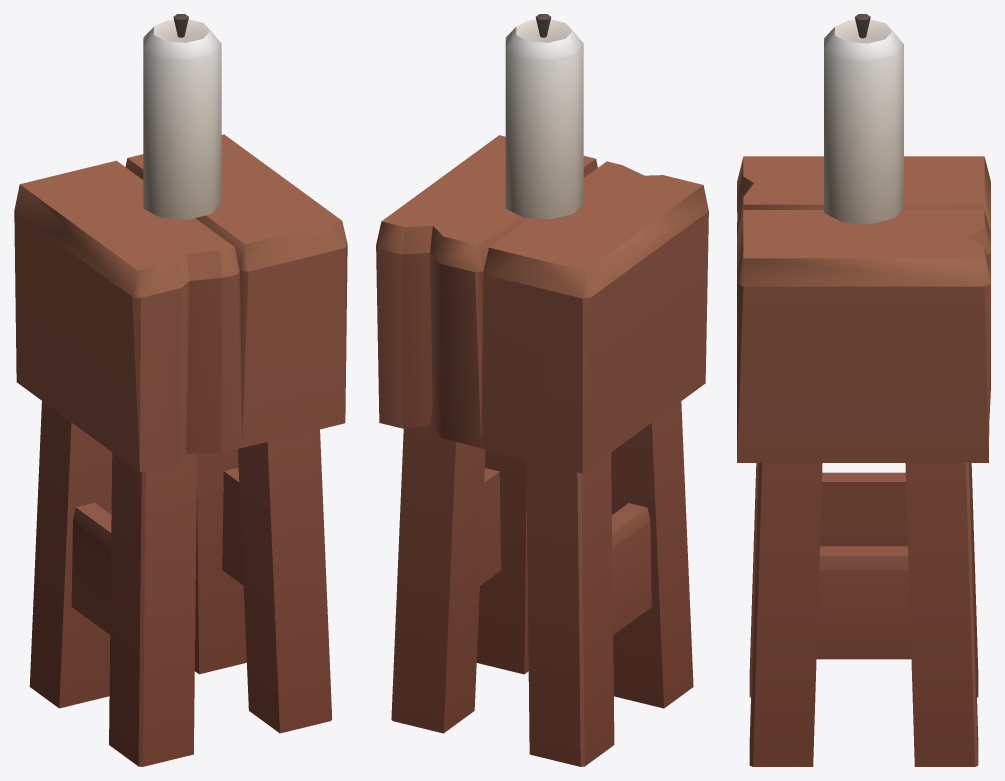
The model's file is Candle.glb.
3 views of the same model, side by side, from view 1: azimuth 30°, elevation 25°; view 2: azimuth 150°, elevation 25°; view 3: azimuth 270°, elevation 25° (orthographic). The views are drawn at different scales.
Visible parts, largest first — view 1: stool, candle; view 2: stool, candle; view 3: stool, candle.
Part boxes in pixels (left/top/right/bottom): stool: left=14, top=134, right=347, bottom=766; candle: left=143, top=14, right=221, bottom=219; stool: left=376, top=135, right=708, bottom=766; candle: left=505, top=14, right=583, bottom=219; stool: left=737, top=156, right=990, bottom=766; candle: left=824, top=14, right=903, bottom=224.
Bounding box in the file's own units: 0.36 × 1.1 × 0.36.
Materials: 2 (2 with a texture image).
